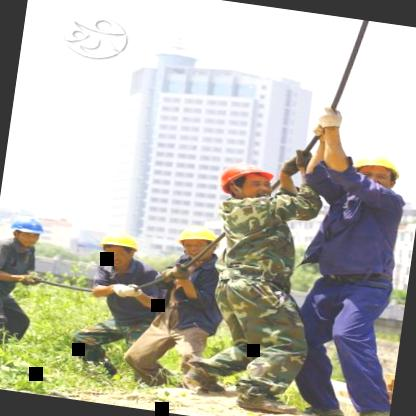helmet: (212, 156, 284, 206), (93, 223, 146, 270), (170, 217, 224, 262), (350, 147, 406, 190), (6, 212, 48, 250)
